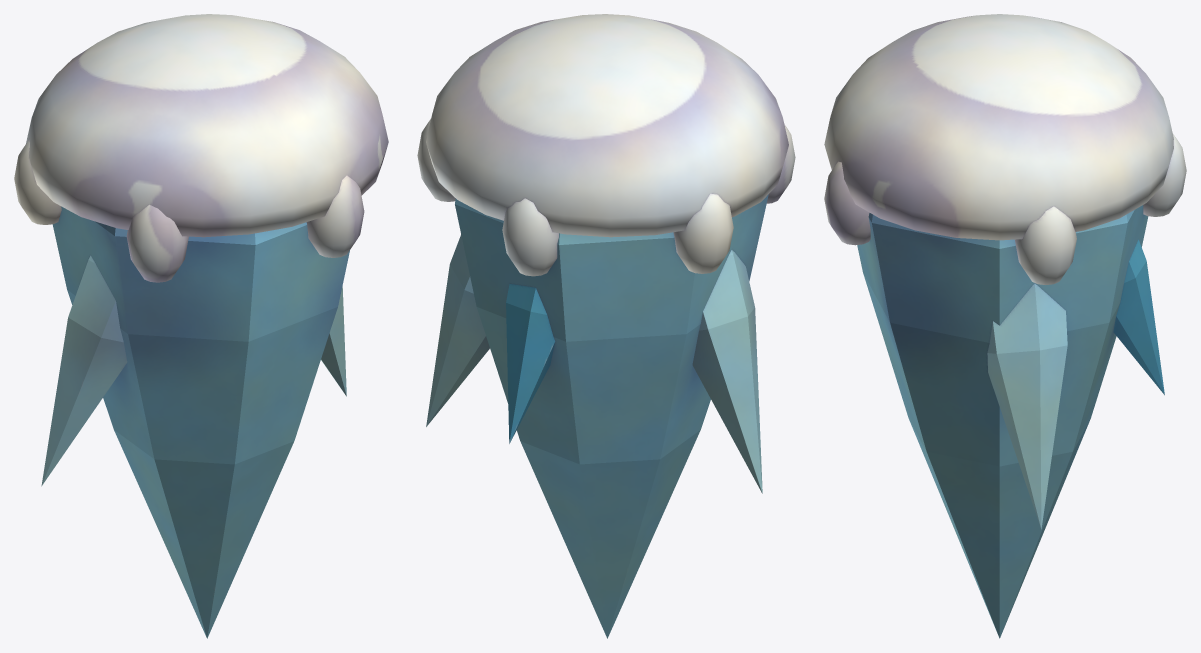
The model's file is FP_FX_Icicle.fbx.
3 renders of one model, left to right at view 1: azimuth 30°, elevation 25°; view 2: azimuth 150°, elevation 25°; view 3: azimuth 270°, elevation 25°, orthographic.
Visible parts, largest first — view 1: FP_FX_Icicle; view 2: FP_FX_Icicle; view 3: FP_FX_Icicle.
Part boxes in pixels (bbox=[...]): FP_FX_Icicle: bbox=[14, 14, 388, 638]; FP_FX_Icicle: bbox=[417, 14, 795, 638]; FP_FX_Icicle: bbox=[824, 14, 1186, 638].
Size of the model in its own units: 95.59 by 170 by 93.02.
Materials: 1 (1 with a texture image).
